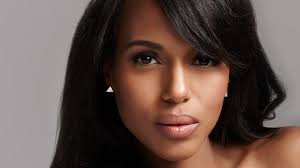black_female: (66, 1, 291, 152)
